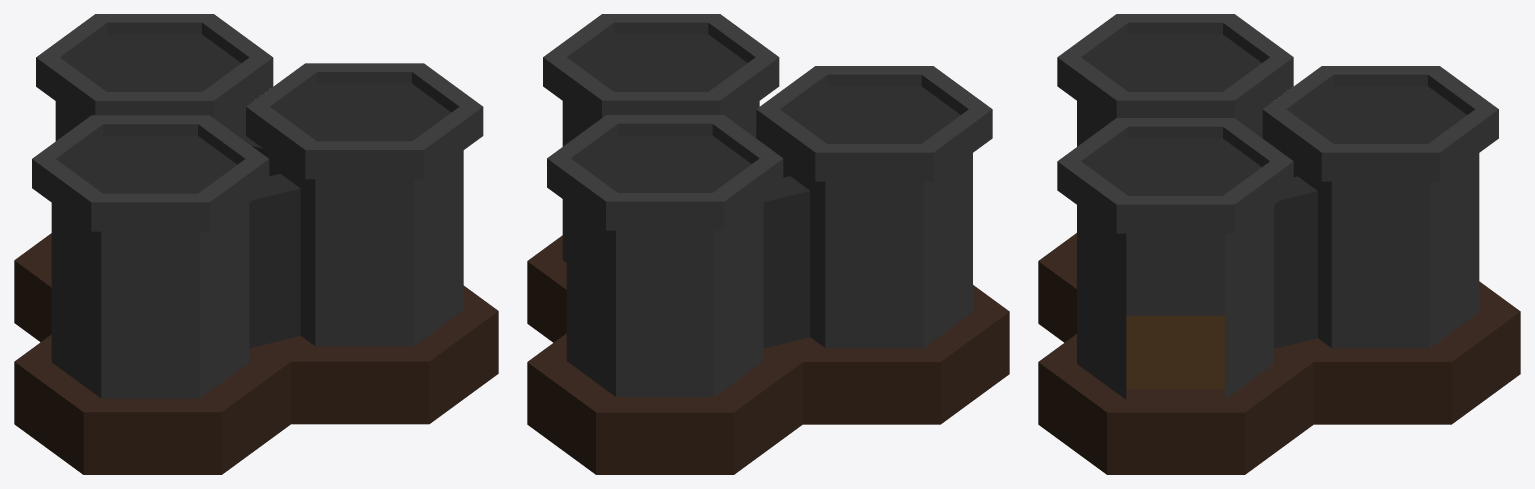
The model's file is Zamek.fbx.
3 views of the same model, side by side, from view 1: azimuth 30°, elevation 25°; view 2: azimuth 150°, elevation 25°; view 3: azimuth 270°, elevation 25° (orthographic).
Parts seen in each view (by area): view 1: Cylinder.003; view 2: Cylinder.003; view 3: Cylinder.003.
Part boxes in pixels (<box>): Cylinder.003: <box>14,14,498,474</box>; Cylinder.003: <box>527,14,1009,474</box>; Cylinder.003: <box>1038,14,1520,474</box>.
Bounding box in the file's own units: 173 × 106 × 175.
